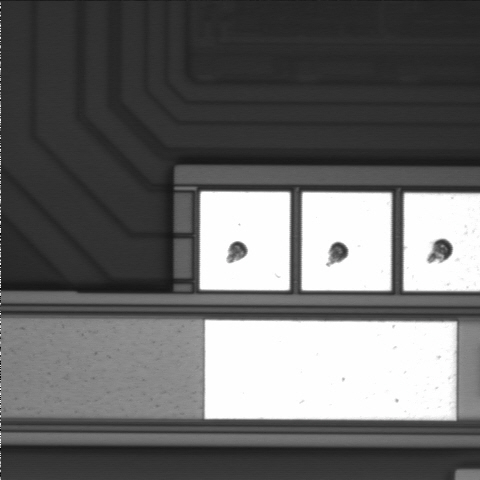pad: (200, 192, 290, 290), (302, 192, 391, 291)
